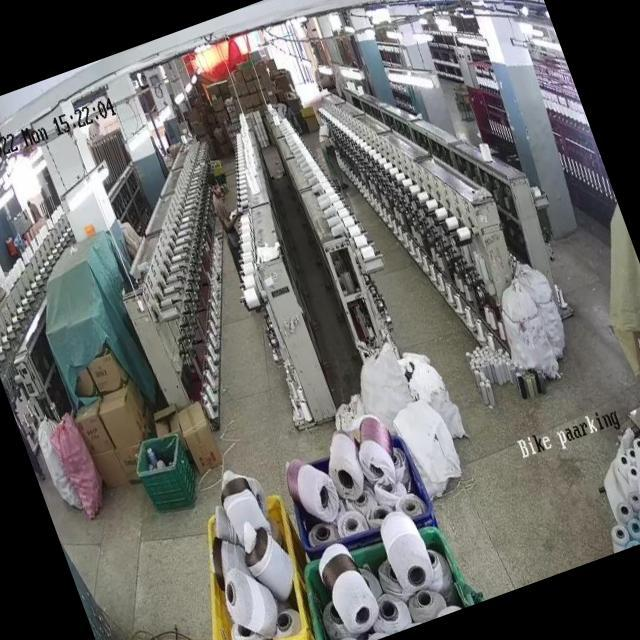person: (204, 172, 248, 255), (311, 118, 353, 186)
